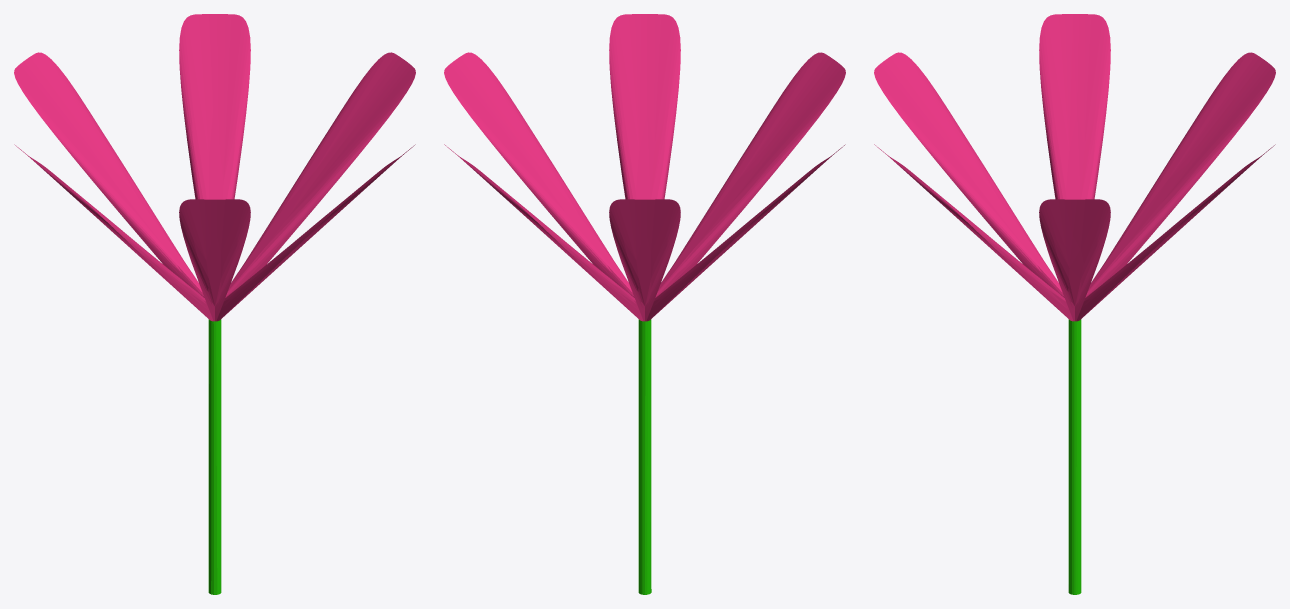
File: flower_poppo.fbx
3 renders of one model, left to right at view 1: azimuth 30°, elevation 25°; view 2: azimuth 150°, elevation 25°; view 3: azimuth 270°, elevation 25°, orthographic.
Visible parts, largest first — view 1: Cone, Cylinder; view 2: Cone, Cylinder; view 3: Cone, Cylinder.
Part boxes in pixels (left/top/right/bottom): Cone: left=14, top=14, right=415, bottom=321; Cylinder: left=208, top=319, right=221, bottom=594; Cone: left=444, top=14, right=845, bottom=321; Cylinder: left=638, top=319, right=651, bottom=594; Cone: left=874, top=14, right=1275, bottom=321; Cylinder: left=1068, top=319, right=1081, bottom=594.
Bounding box in the file's own units: 399 × 486 × 365.
